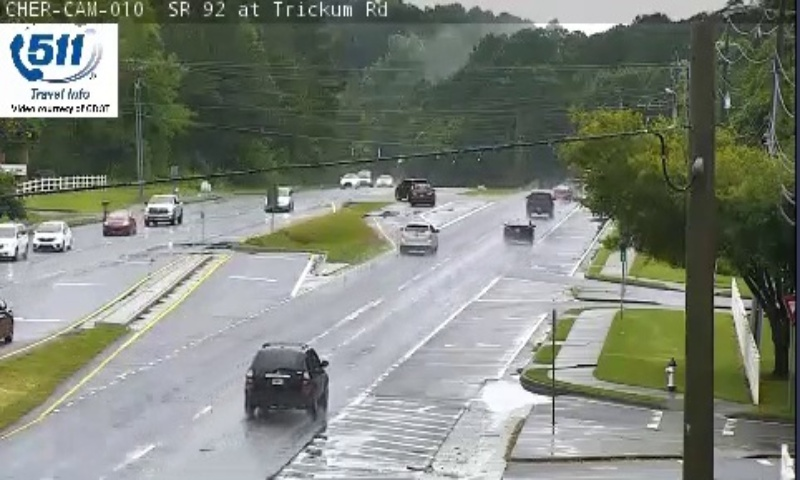car: (243, 342, 326, 409), (398, 223, 438, 252), (502, 218, 534, 242), (526, 191, 552, 218)
